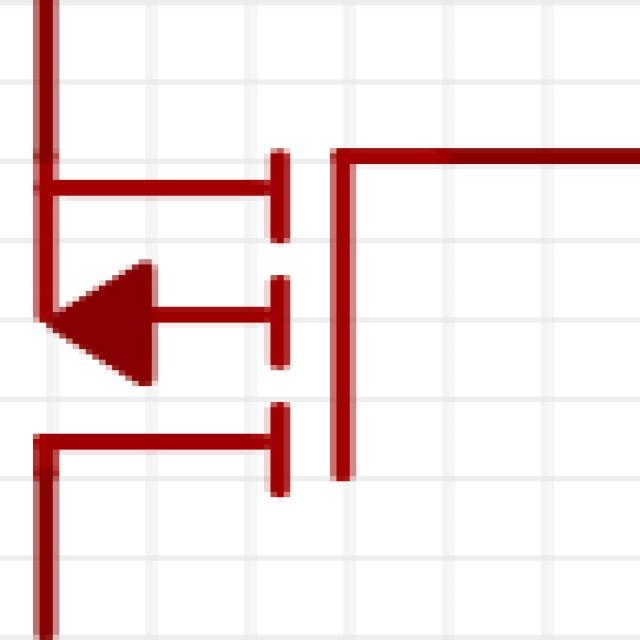pmos: (6, 16, 640, 635)
